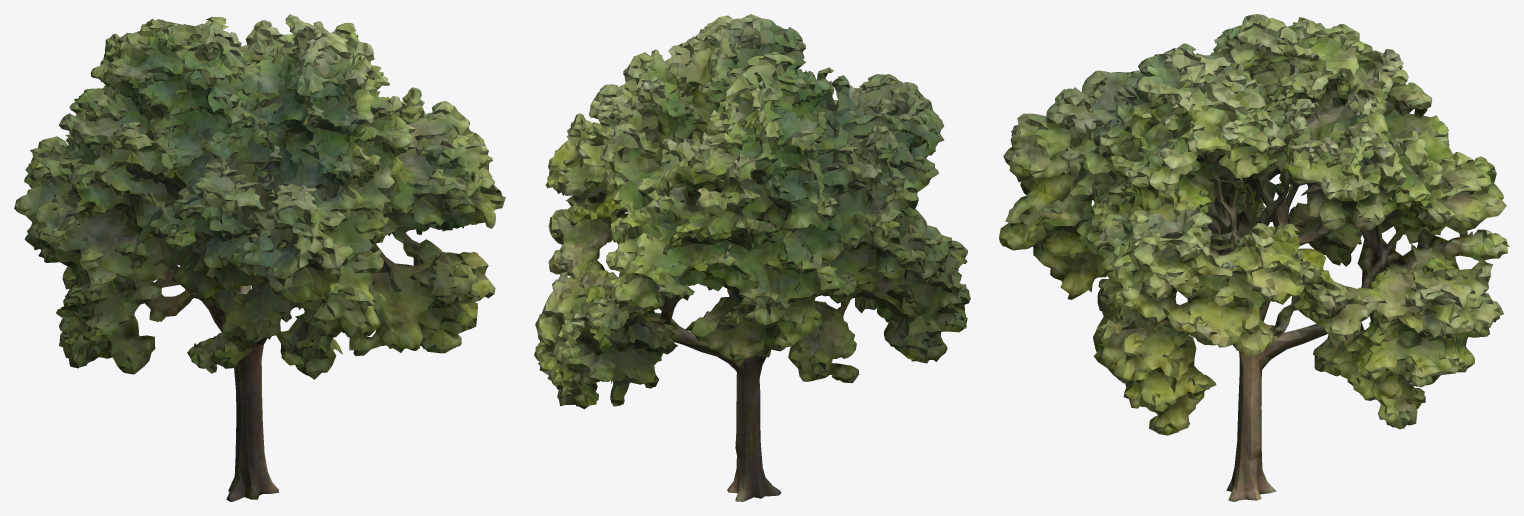
Rendered from Linden.obj.
3 views of the same model, side by side, from view 1: azimuth 30°, elevation 25°; view 2: azimuth 150°, elevation 25°; view 3: azimuth 270°, elevation 25° (orthographic). The views are drawn at different scales.
Visible parts, largest first — view 1: Linden; view 2: Linden; view 3: Linden.
Part boxes in pixels (x1,y1,x2,y2): Linden: [14, 14, 505, 501]; Linden: [534, 14, 970, 501]; Linden: [999, 14, 1509, 501].
Size of the model in its own units: 0.9075 by 0.9964 by 0.9994.
Materials: 1 (1 with a texture image).
